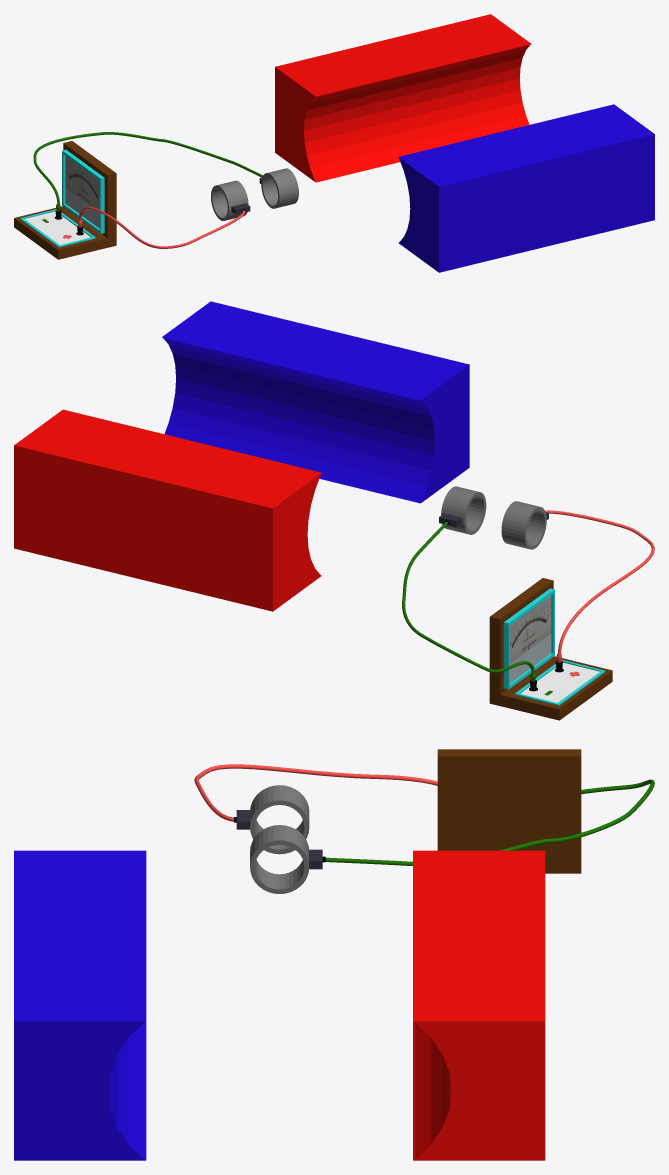
File: generator no coil.gltf
3 renders of one model, top to bottom at view 1: azimuth 30°, elevation 25°; view 2: azimuth 150°, elevation 25°; view 3: azimuth 270°, elevation 25°, orthographic. The views are drawn at different scales.
Visible parts, largest first — view 1: Cube, Cube.003, Cube.025, Cube.026, Cylinder, Cube.027, Cylinder.001, Cube.006, BezierCurve.002, BezierCurve.001, Cube.030; view 2: Cube.003, Cube, Cube.025, Cube.026, Cylinder.001, Cube.027, Cylinder, Cube.006, BezierCurve.001, BezierCurve.002, Cube.030; view 3: Cube, Cube.003, Cube.026, Cylinder, Cylinder.001, BezierCurve.002, BezierCurve.001, Cube.025.
Part boxes in pixels (<box>): Cube: <box>398,104,654,272</box>; Cube.003: <box>275,14,531,182</box>; Cube.025: <box>14,206,116,259</box>; Cube.026: <box>63,141,116,246</box>; Cylinder: <box>261,168,298,208</box>; Cube.027: <box>65,155,99,209</box>; Cylinder.001: <box>211,180,248,220</box>; Cube.006: <box>25,211,90,244</box>; BezierCurve.002: <box>33,132,262,204</box>; BezierCurve.001: <box>79,206,245,248</box>; Cube.030: <box>65,187,99,228</box>; Cube.003: <box>14,409,321,611</box>; Cube: <box>162,301,469,503</box>; Cube.025: <box>489,656,612,720</box>; Cube.026: <box>489,578,553,702</box>; Cylinder.001: <box>501,501,546,549</box>; Cube.027: <box>510,595,551,663</box>; Cylinder: <box>441,486,486,534</box>; Cube.006: <box>521,662,599,702</box>; BezierCurve.001: <box>545,510,654,654</box>; BezierCurve.002: <box>402,521,534,673</box>; Cube.030: <box>510,634,551,682</box>; Cube: <box>14,850,146,1160</box>; Cube.003: <box>413,850,545,1160</box>; Cube.026: <box>437,749,581,858</box>; Cylinder: <box>250,825,309,893</box>; Cylinder.001: <box>250,785,309,854</box>; BezierCurve.002: <box>325,779,654,865</box>; BezierCurve.001: <box>194,764,437,821</box>; Cube.025: <box>545,858,581,873</box>.
Size of the model in its own units: 12.26 by 2.71 by 9.02.
14 materials, 1 textured.
